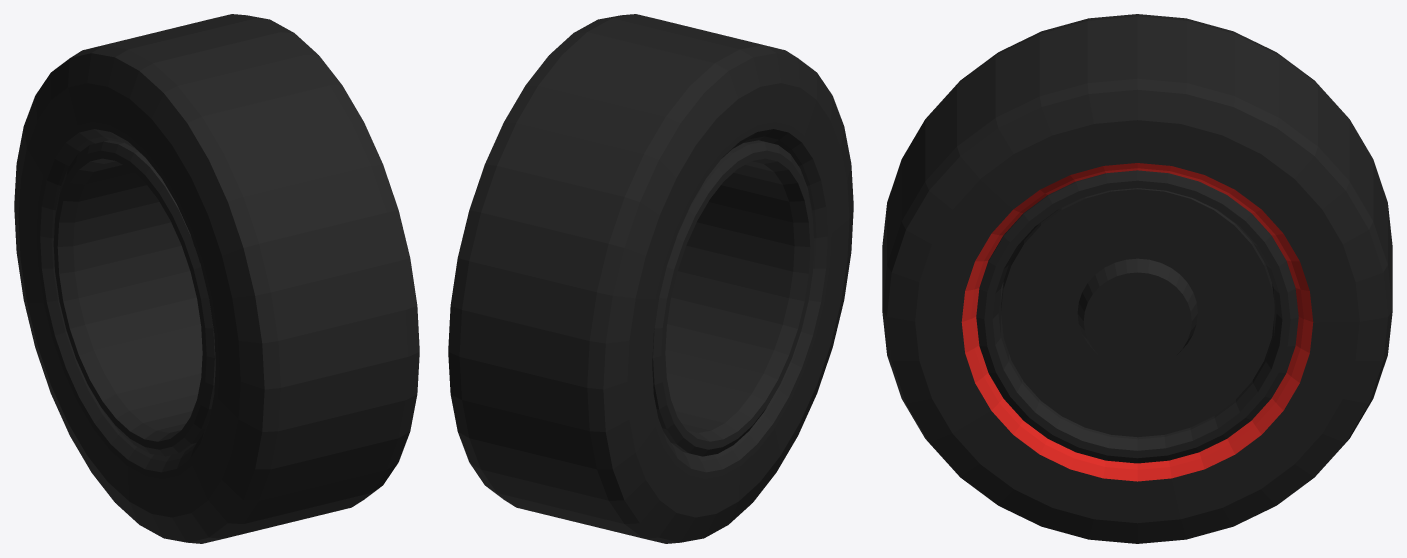
The model's file is Racecar_FrontWheel.fbx.
3 views of the same model, side by side, from view 1: azimuth 30°, elevation 25°; view 2: azimuth 150°, elevation 25°; view 3: azimuth 270°, elevation 25° (orthographic).
Parts seen in each view (by area): view 1: Car-7_FrontWheel; view 2: Car-7_FrontWheel; view 3: Car-7_FrontWheel.
Boxes of the visible parts, bbox=[...] form: Car-7_FrontWheel: bbox=[14, 14, 419, 543]; Car-7_FrontWheel: bbox=[448, 14, 853, 543]; Car-7_FrontWheel: bbox=[882, 14, 1392, 543].
Bounding box in the file's own units: 0.3227 × 0.3227 × 0.1297.
